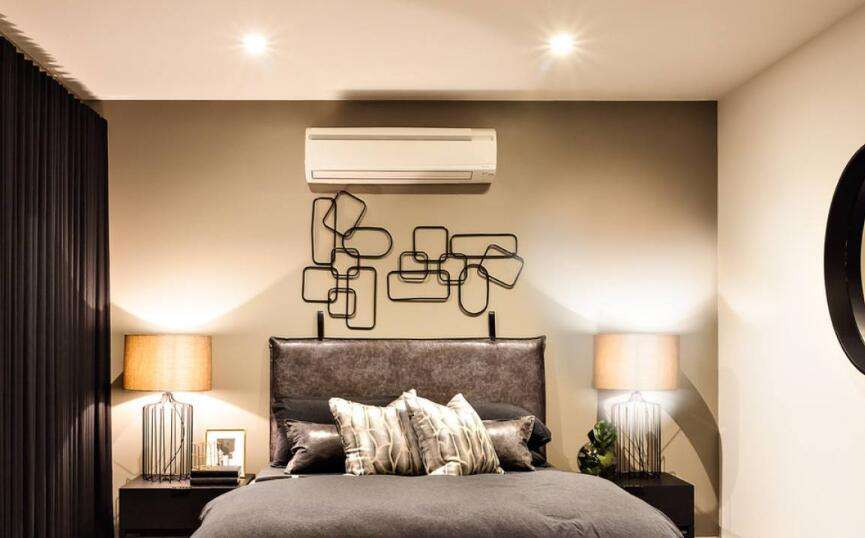床: (203, 465, 672, 538)
枕头: (279, 388, 541, 478)
灯: (118, 342, 224, 498), (590, 327, 683, 477), (543, 32, 583, 68), (235, 30, 274, 63)
